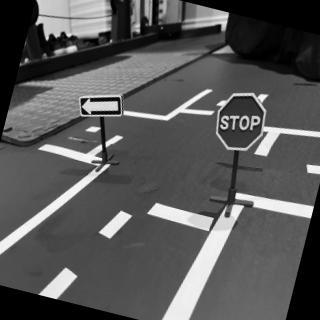sign_oneway_left: (75, 82, 131, 128)
sign_stop: (209, 85, 273, 158)
